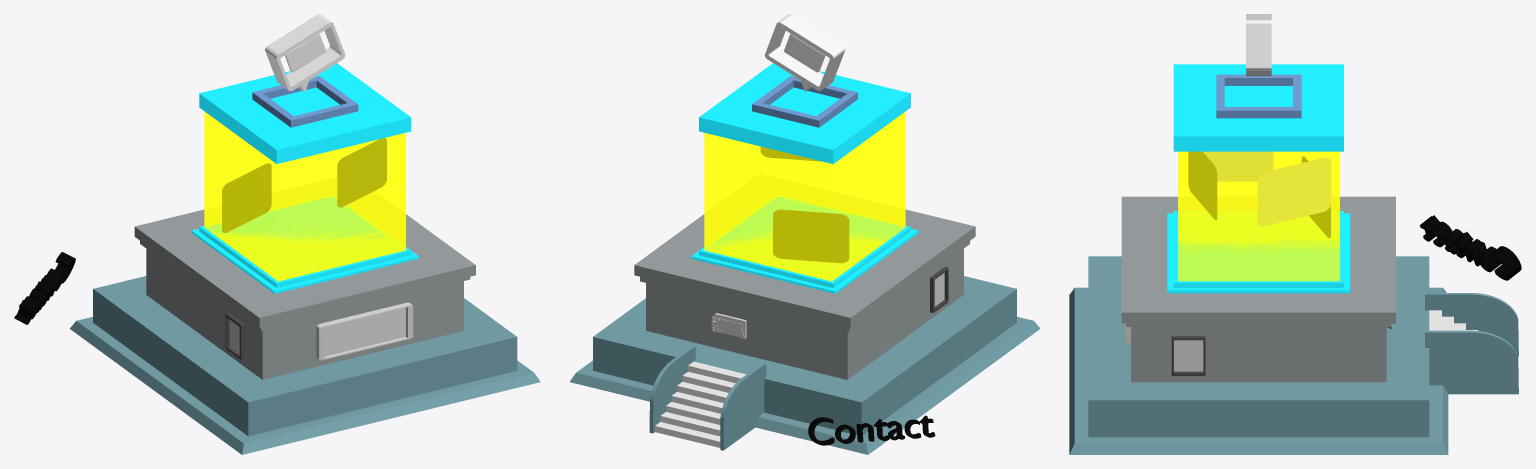
Rendered from building3.glb.
The picture shows the model from 3 angles, left to right: view 1: azimuth 30°, elevation 25°; view 2: azimuth 150°, elevation 25°; view 3: azimuth 270°, elevation 25°; orthographic projection. The views are drawn at different scales.
Parts seen in each view (by area): view 1: Building1.floor, Building1.etage, Building1.digitalWindow, Building1.digitalWindowBorder, Building1.windowBack, Building1.letter, Building1.screen3, Building1.screen1, Building1.top, Building1.text, Building1.etageWindow; view 2: Building1.etage, Building1.floor, Building1.digitalWindow, Building1.digitalWindowBorder, Building1.stairs, Building1.stairsHolding, Building1.screen1, Building1.letter, Building1.top, Building1.text, Building1.etageWindow, Building1.door; view 3: Building1.floor, Building1.etage, Building1.digitalWindowBorder, Building1.digitalWindow, Building1.stairsHolding, Building1.screen4, Building1.text, Building1.top, Building1.screen2, Building1.letter, Building1.screen3, Building1.etageWindow (+1 smaller).
Part boxes in pixels (x1,y1,x2,y2): Building1.floor: (69,276,540,454); Building1.etage: (134,209,475,379); Building1.digitalWindow: (204,111,405,281); Building1.digitalWindowBorder: (191,63,418,293); Building1.windowBack: (316,302,413,360); Building1.letter: (265,14,345,91); Building1.screen3: (337,138,386,207); Building1.screen1: (222,163,271,232); Building1.top: (252,76,358,127); Building1.text: (14,252,75,324); Building1.etageWindow: (225,313,244,359); Building1.etage: (634,209,975,379); Building1.floor: (569,276,1040,454); Building1.digitalWindow: (704,111,905,281); Building1.digitalWindowBorder: (691,63,918,293); Building1.stairs: (655,361,745,447); Building1.stairsHolding: (649,345,766,450); Building1.screen1: (773,210,848,262); Building1.letter: (764,14,845,91); Building1.top: (752,76,857,127); Building1.text: (808,415,935,445); Building1.etageWindow: (930,266,948,312); Building1.door: (711,313,746,338); Building1.floor: (1069,256,1448,454); Building1.etage: (1121,196,1395,382); Building1.digitalWindowBorder: (1167,64,1350,293); Building1.digitalWindow: (1178,151,1339,281); Building1.stairsHolding: (1425,293,1518,394); Building1.screen4: (1258,158,1330,225); Building1.text: (1419,215,1521,280); Building1.top: (1216,74,1301,118); Building1.screen2: (1203,152,1273,181); Building1.letter: (1246,14,1271,76); Building1.screen3: (1188,152,1216,219); Building1.etageWindow: (1171,336,1205,375).
Size of the model in its own units: 10.71 by 9.45 by 10.61.
